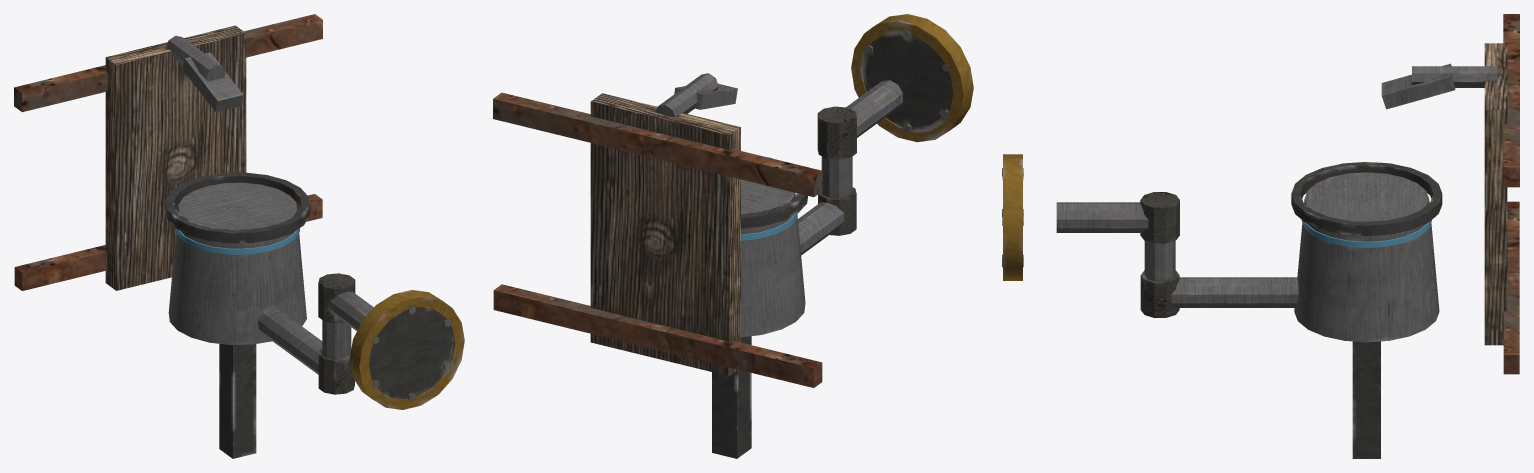
The model's file is feSapTapper.glb.
The picture shows the model from 3 angles, left to right: view 1: azimuth 30°, elevation 25°; view 2: azimuth 150°, elevation 25°; view 3: azimuth 270°, elevation 25°; orthographic projection. The views are drawn at different scales.
Parts seen in each view (by area): view 1: feSapTapper_Base; view 2: feSapTapper_Base; view 3: feSapTapper_Base.
Part boxes in pixels (x1,y1,x2,y2): feSapTapper_Base: [14, 14, 464, 458]; feSapTapper_Base: [493, 14, 973, 458]; feSapTapper_Base: [1002, 14, 1519, 458].
Size of the model in its own units: 0.7024 by 0.8248 by 1.
Materials: 2 (1 with a texture image).
